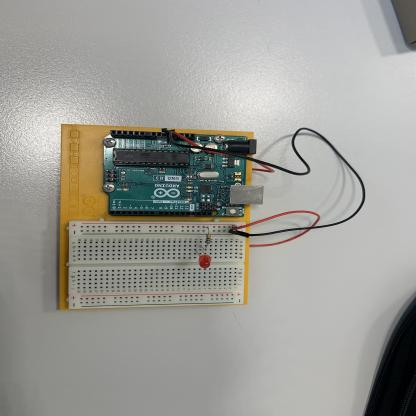5V: (170, 132, 281, 179), (246, 209, 330, 256)
ARDUINO: (106, 129, 250, 218)
Breadboard: (70, 221, 245, 310)
GND: (156, 118, 377, 240)
LED: (198, 255, 211, 269)
Resistor: (202, 229, 217, 246)
